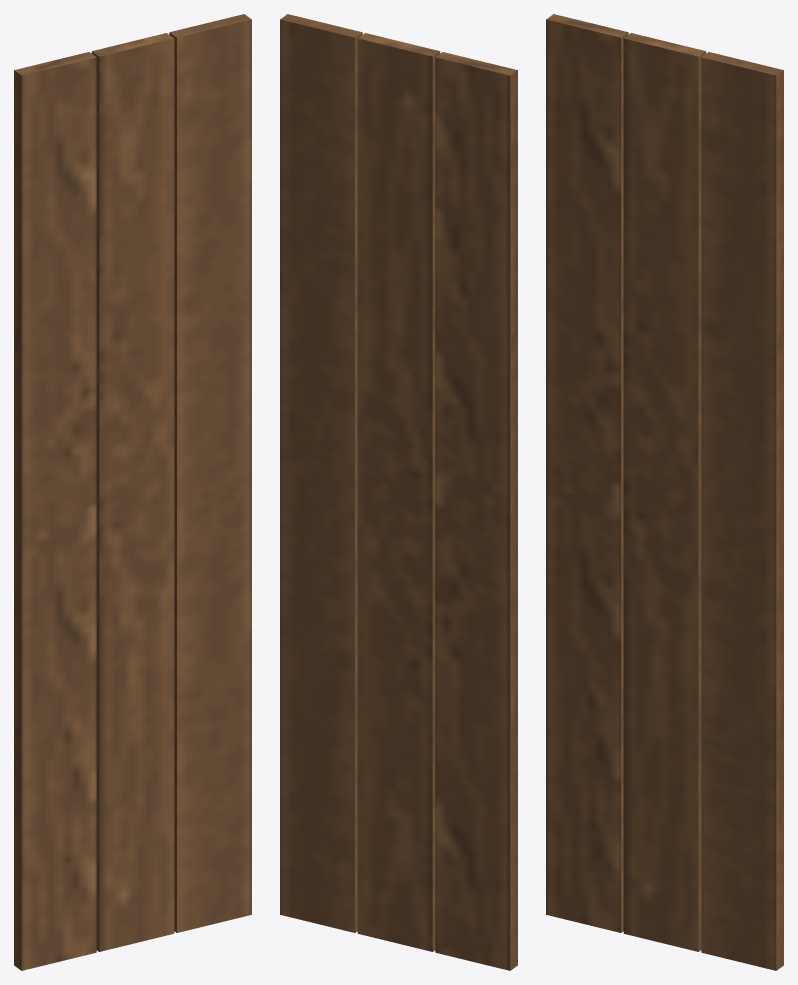
File: doski (1).fbx
3 views of the same model, side by side, from view 1: azimuth 30°, elevation 25°; view 2: azimuth 150°, elevation 25°; view 3: azimuth 330°, elevation 25° (orthographic).
Parts seen in each view (by area): view 1: Cube.013; view 2: Cube.013; view 3: Cube.013.
Part boxes in pixels (left/top/right/bottom): Cube.013: left=14, top=14, right=251, bottom=970; Cube.013: left=280, top=14, right=517, bottom=970; Cube.013: left=546, top=14, right=783, bottom=970.
Bounding box in the file's own units: 43.06 × 160 × 2.43.
Materials: 1 (1 with a texture image).
